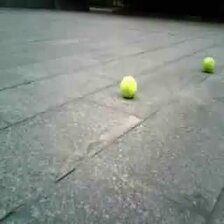tennis: (120, 77, 137, 97), (203, 57, 213, 73)
